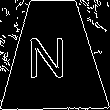N_N: (33, 29, 75, 80)
